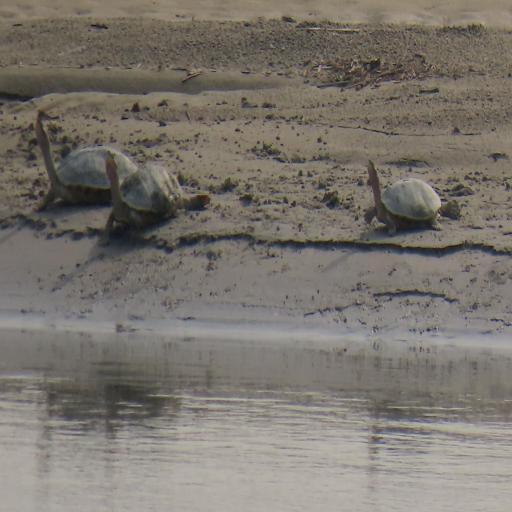turtle: (30, 112, 139, 212), (101, 148, 210, 243), (364, 156, 462, 234)
